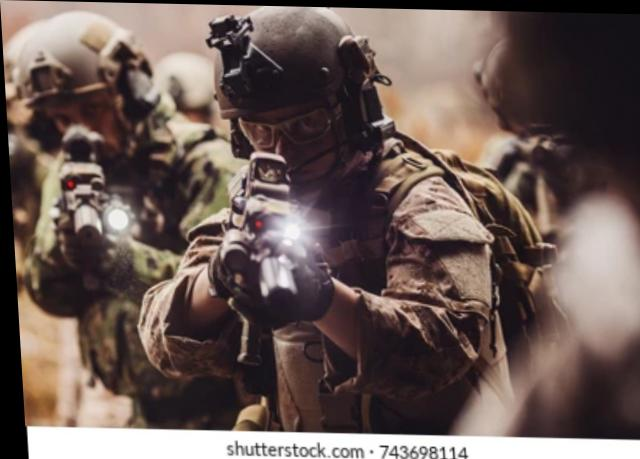other: (194, 10, 464, 420), (6, 7, 235, 396)
